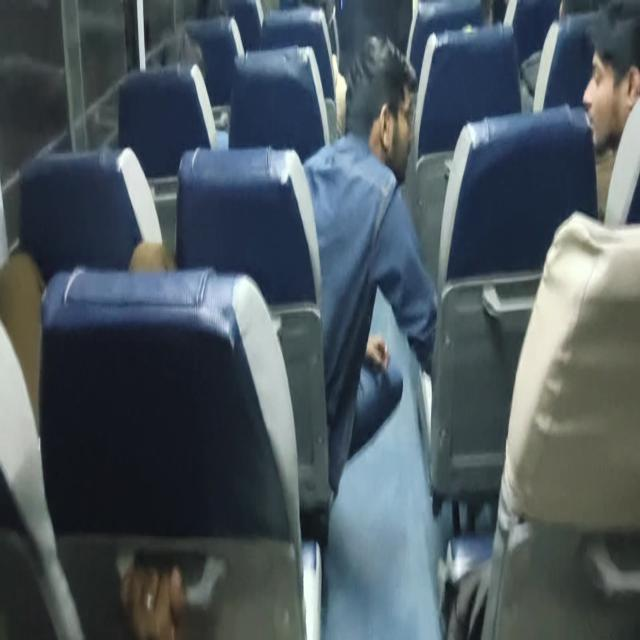person: (337, 40, 416, 177), (579, 40, 640, 140), (148, 36, 206, 86)
